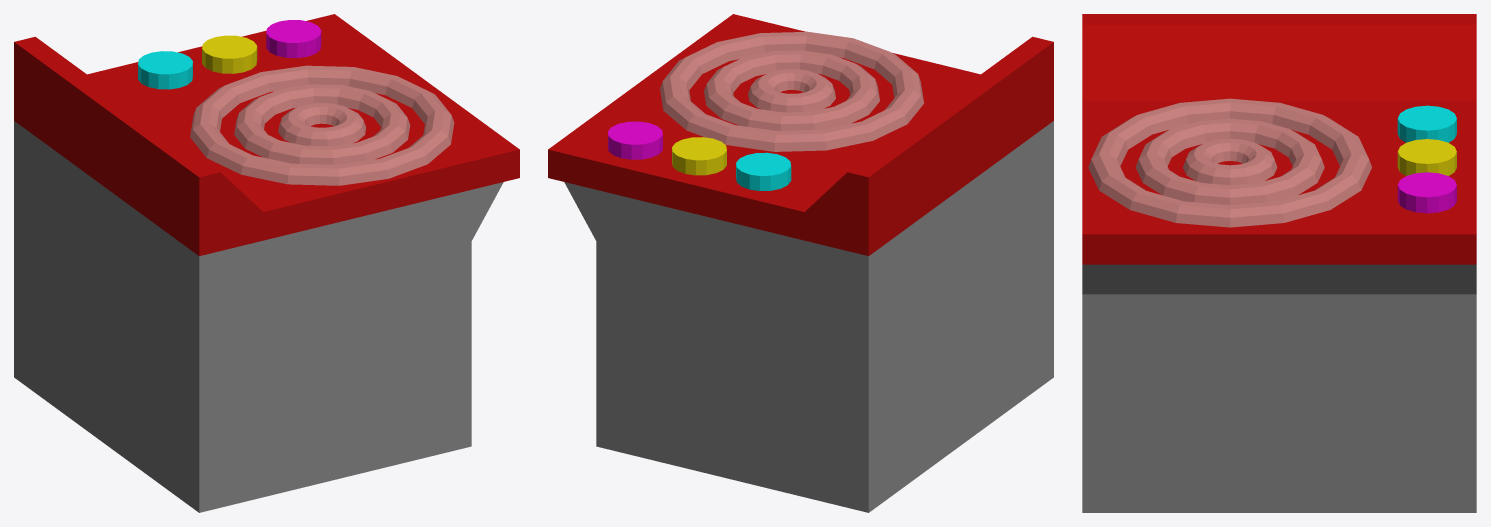
The model's file is Cooker1.fbx.
3 renders of one model, left to right at view 1: azimuth 30°, elevation 25°; view 2: azimuth 150°, elevation 25°; view 3: azimuth 270°, elevation 25°, orthographic. The views are drawn at different scales.
Visible parts, largest first — view 1: Cube; view 2: Cube; view 3: Cube.
Boxes of the visible parts, x1,y1,x2,y2 form: Cube: [14, 14, 519, 512]; Cube: [548, 14, 1053, 512]; Cube: [1082, 14, 1476, 512].
Size of the model in its own units: 100 by 100 by 100.
